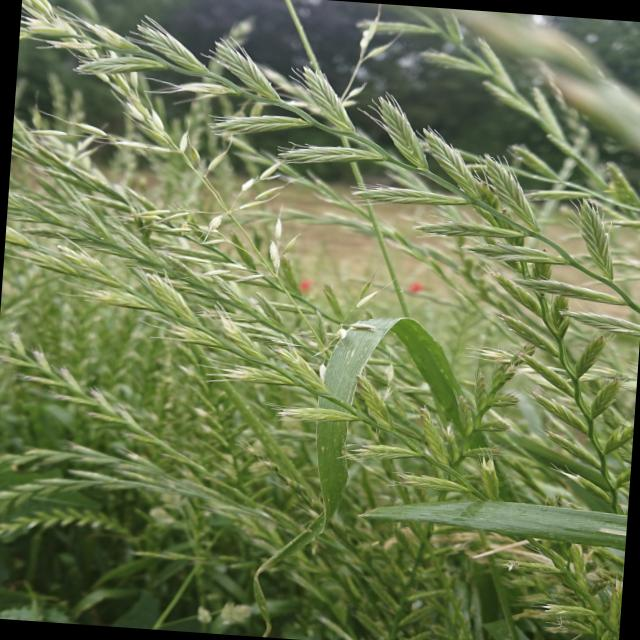Lolium: (0, 131, 640, 640), (44, 17, 640, 325), (452, 177, 640, 538)
